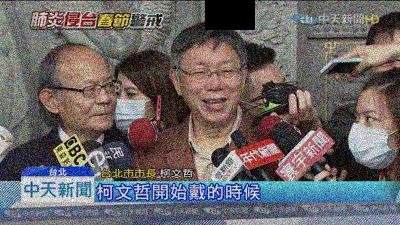with_mask: (347, 107, 398, 167), (112, 85, 155, 136)
without_mask: (181, 56, 243, 126), (55, 72, 115, 136)
